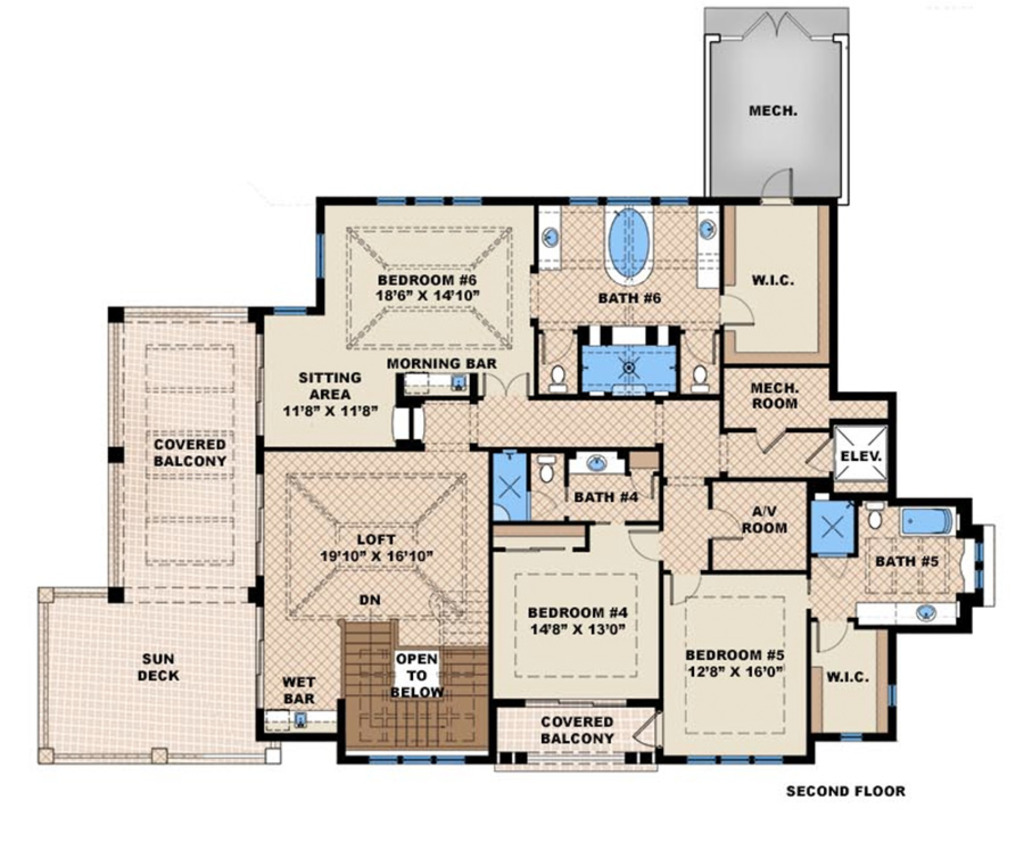door: (744, 6, 815, 46), (680, 328, 722, 371), (482, 370, 533, 400), (719, 289, 758, 328), (762, 166, 799, 207), (709, 506, 750, 543), (815, 616, 852, 656), (539, 328, 575, 366), (627, 521, 661, 561), (666, 571, 702, 608), (630, 711, 660, 747), (752, 425, 785, 453)
large_sink: (858, 500, 888, 533), (532, 451, 561, 484), (687, 362, 714, 392), (547, 365, 568, 394)
small_sink: (536, 202, 564, 268), (697, 204, 721, 270), (570, 449, 633, 474), (898, 599, 960, 624)
stairs: (337, 590, 494, 754)
tub: (597, 202, 657, 285), (896, 506, 960, 536)
windows: (370, 190, 488, 210), (679, 750, 788, 767), (361, 752, 469, 769), (313, 227, 331, 283), (270, 302, 310, 319)
